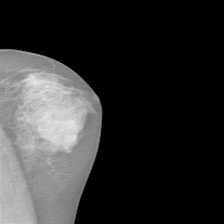Mass_1: (128, 67, 197, 125)
